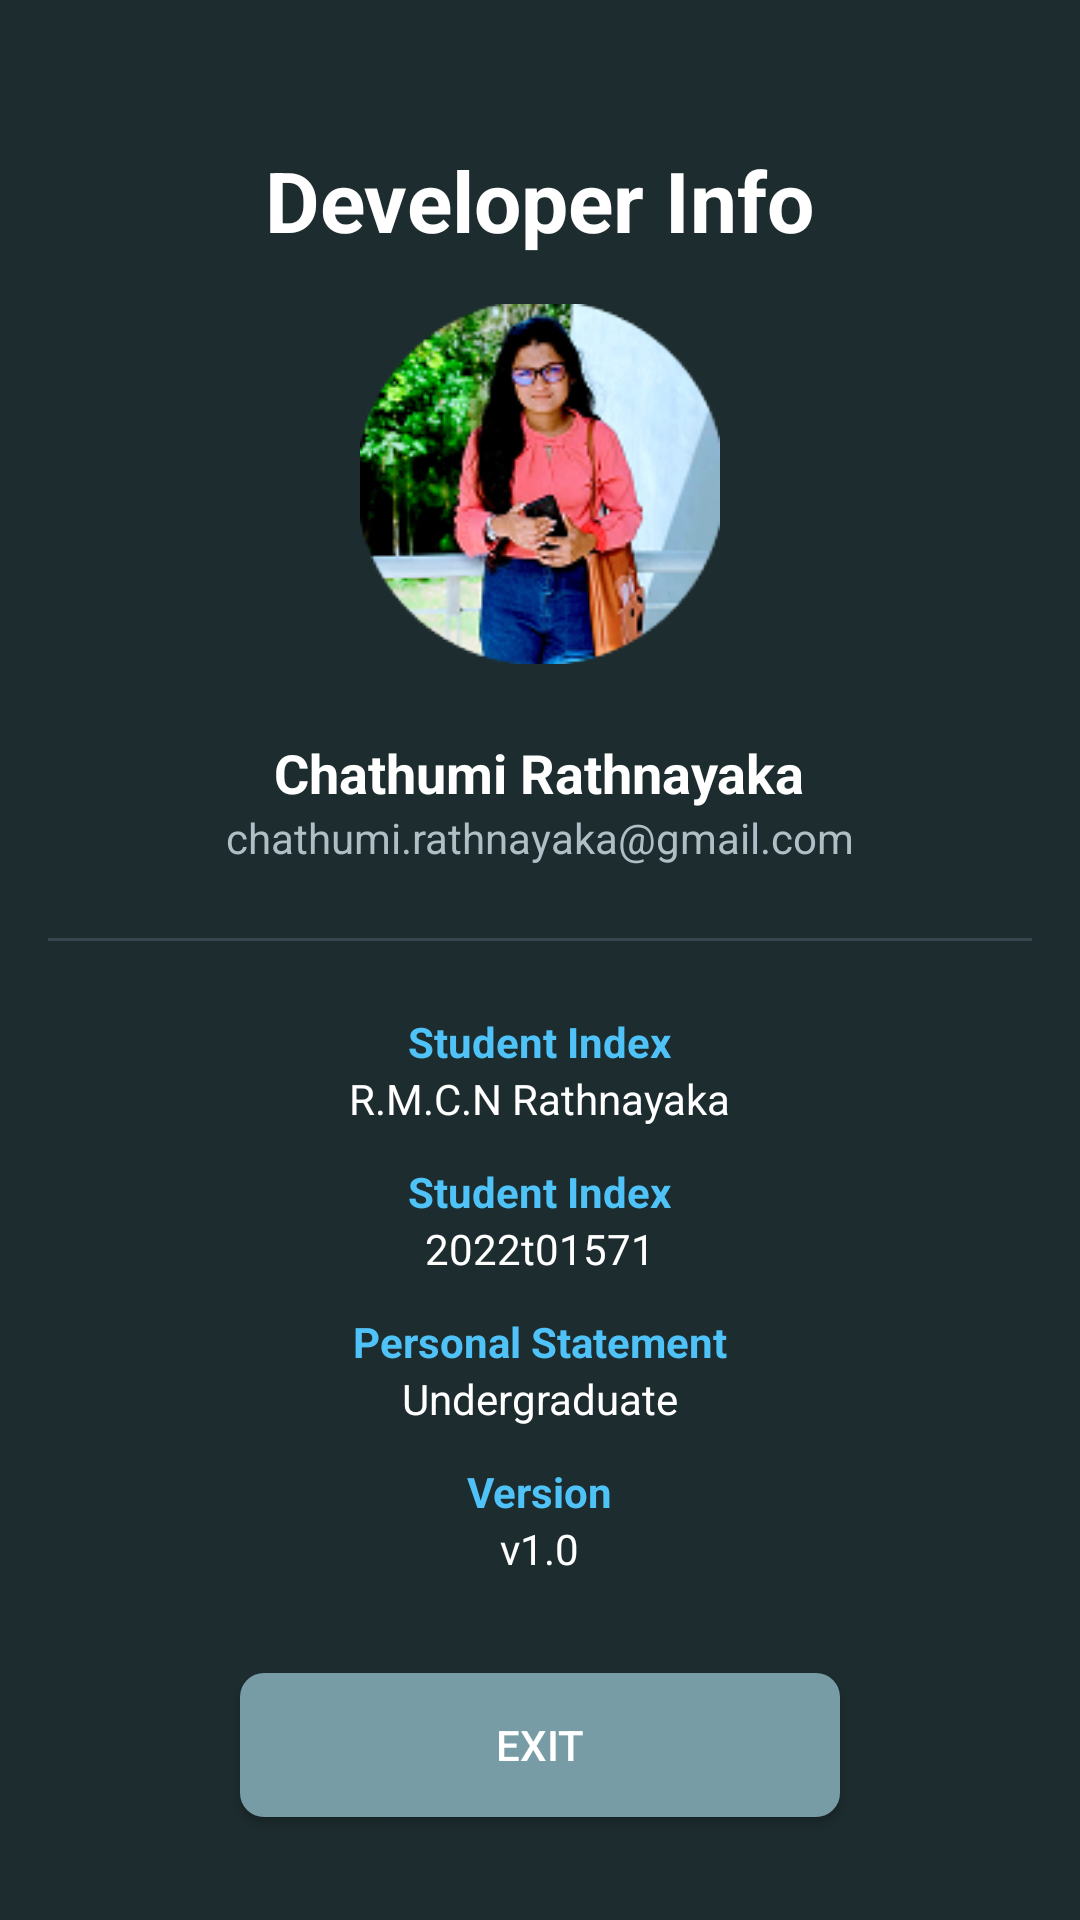

Named icons in this screenshot (1080px x 1920px) and their centers, point (x, y):
devdp: point (540, 484)
